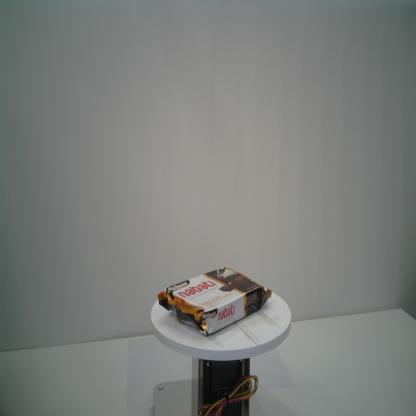Dessert: (156, 264, 273, 338)
